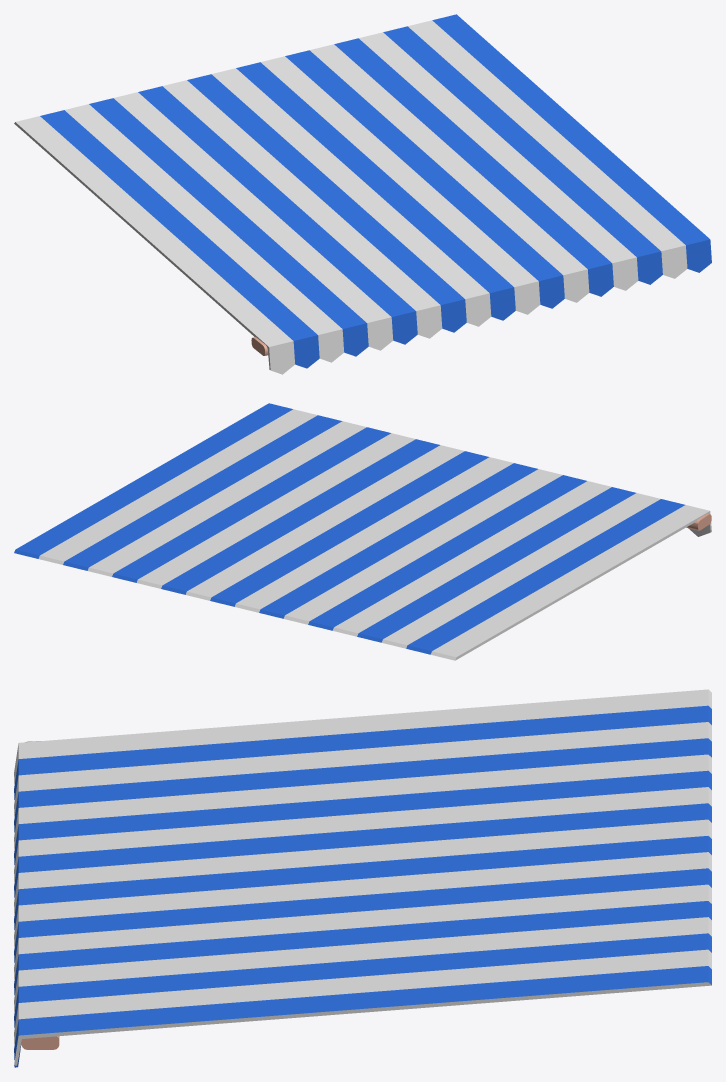
The model's file is sheet .fbx.
3 views of the same model, one above another, from view 1: azimuth 30°, elevation 25°; view 2: azimuth 150°, elevation 25°; view 3: azimuth 270°, elevation 25° (orthographic). The views are drawn at different scales.
Parts seen in each view (by area): view 1: Sheet; view 2: Sheet; view 3: Sheet.
Part boxes in pixels (x1,y1,x2,y2): Sheet: (14, 14, 711, 374); Sheet: (14, 403, 711, 660); Sheet: (14, 689, 711, 1067).
Bounding box in the file's own units: 1921 × 285 × 1924.
